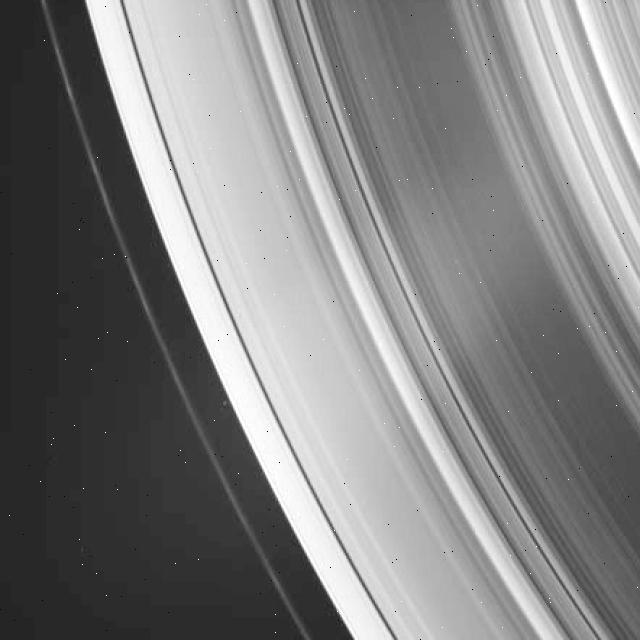Saturn: (33, 0, 640, 640)
